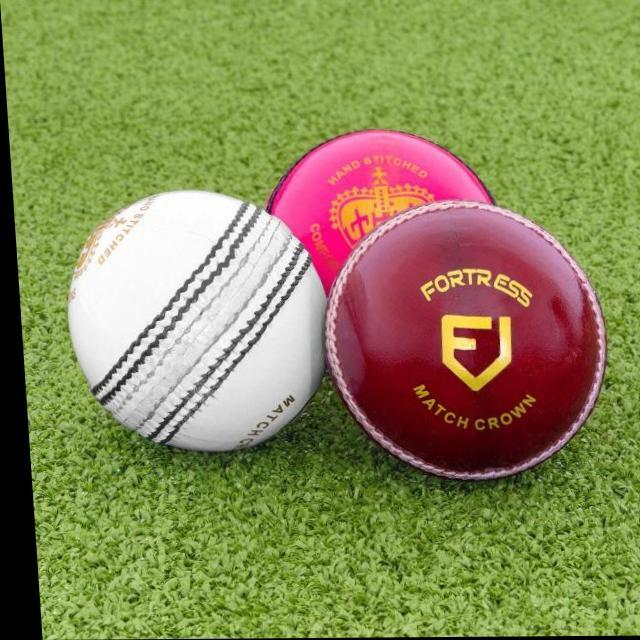cricket ball: (64, 192, 324, 452)
